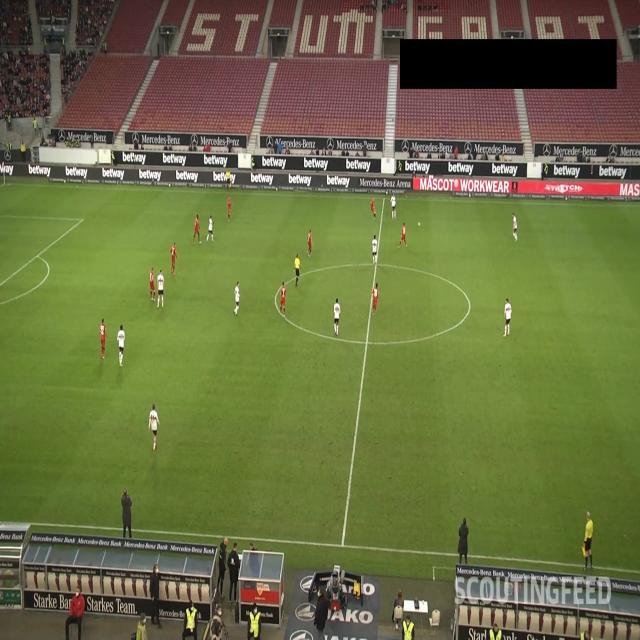ball: (417, 221, 421, 228)
